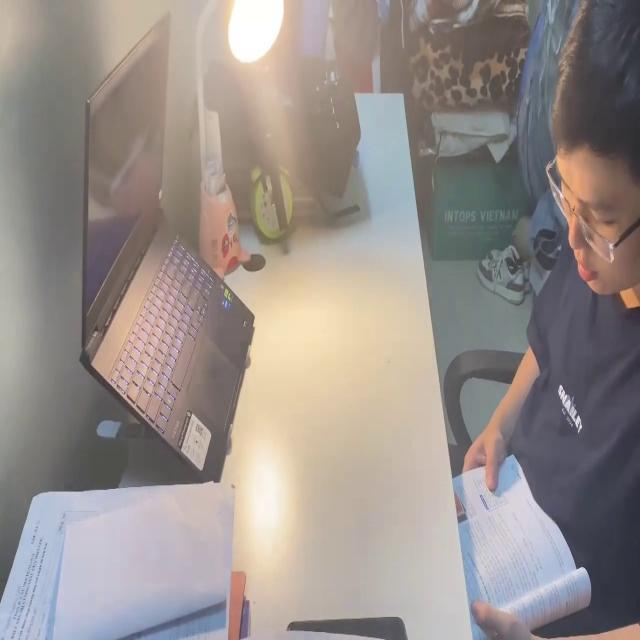book: (3, 486, 251, 640), (448, 449, 591, 632)
laptop: (71, 3, 257, 480)
phone: (287, 615, 405, 640)
student: (449, 1, 640, 640)
